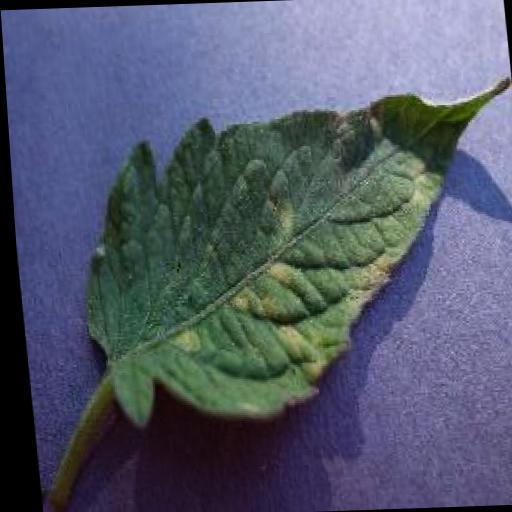Leaf Mold: (60, 76, 512, 428)
